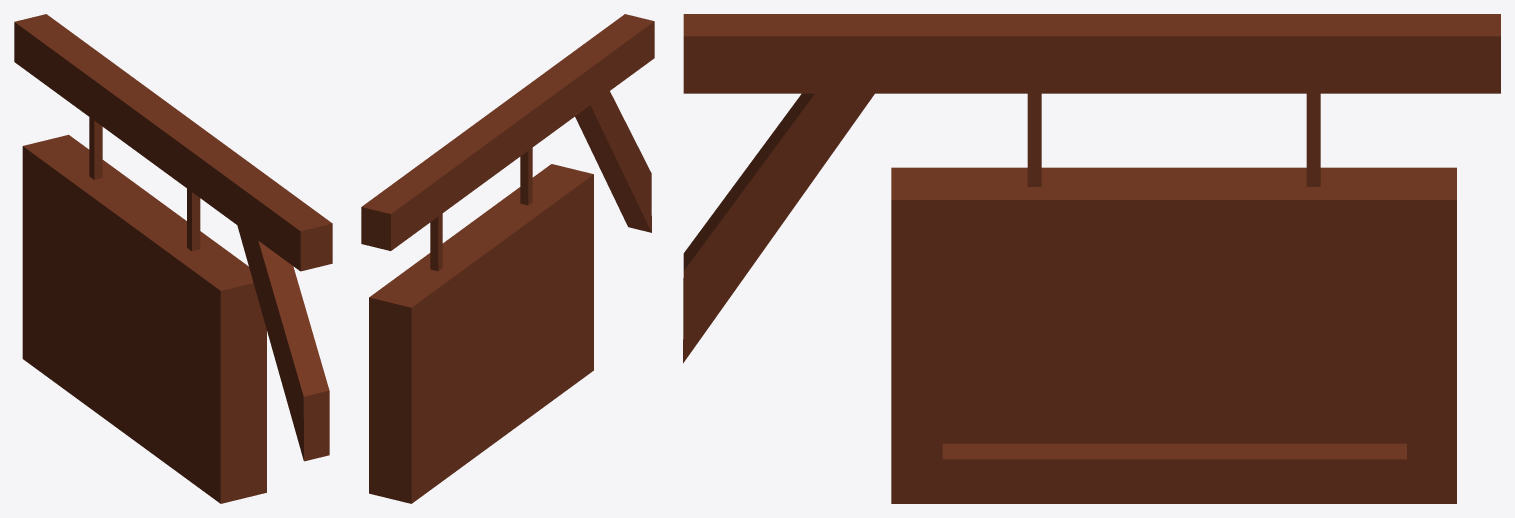
The picture shows the model from 3 angles, left to right: view 1: azimuth 30°, elevation 25°; view 2: azimuth 150°, elevation 25°; view 3: azimuth 270°, elevation 25°; orthographic projection. The views are drawn at different scales.
Visible parts, largest first — view 1: 对象001, 立方体; view 2: 对象001, 立方体; view 3: 立方体, 对象001.
Part boxes in pixels (x1,y1,x2,y2): 对象001: (22,134,266,503); 立方体: (14,14,332,461); 对象001: (369,164,593,503); 立方体: (361,14,654,271); 立方体: (683,14,1500,443); 对象001: (891,167,1456,503).
Size of the model in its own units: 45.31 by 304 by 487.
